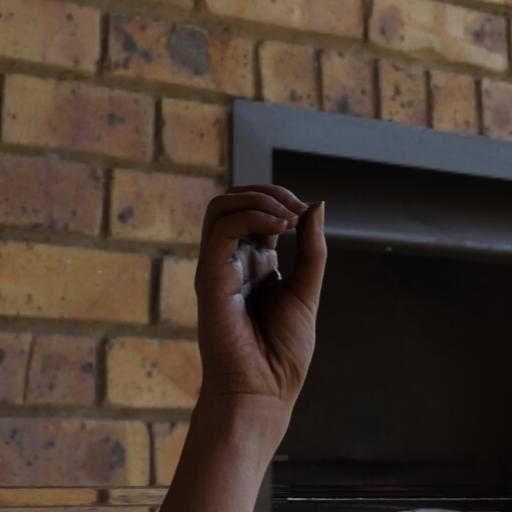O: (160, 157, 338, 493)
